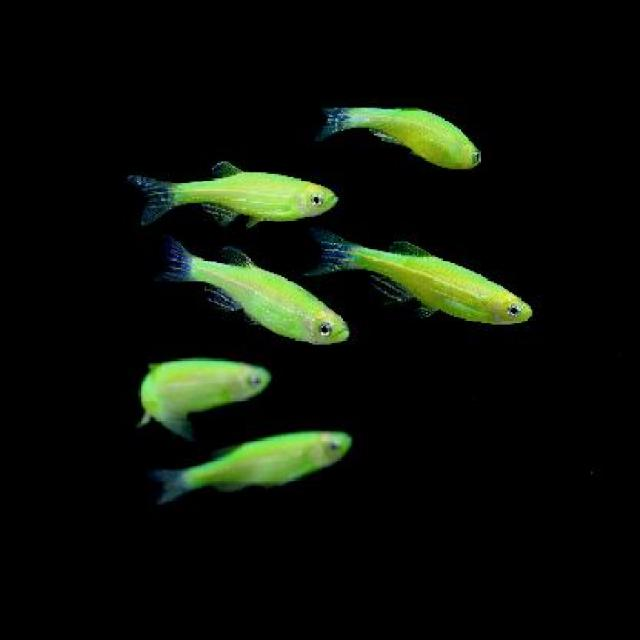ZebraFish: (312, 224, 537, 324), (161, 230, 350, 344), (129, 159, 336, 223)
